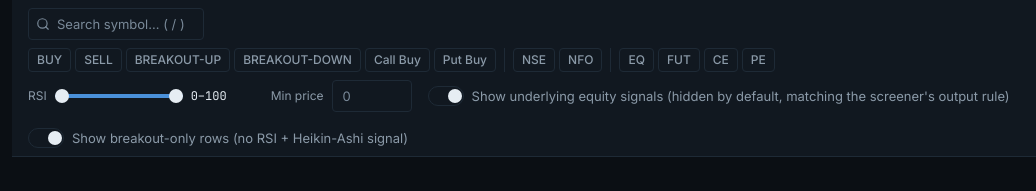
Test: FilterBar › a signal with a space is encoded ONCE in the URL (CE+Buy, not CE%2520Buy)
This screenshot has width=1036, height=191.
Click the button "Call Buy": (397, 60) [365,48,430,72]
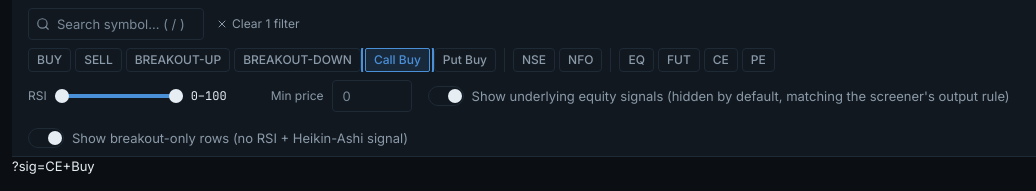
expect the text with test id "location-search" shows "sig=CE+Buy": met, box [12,158,95,174]
